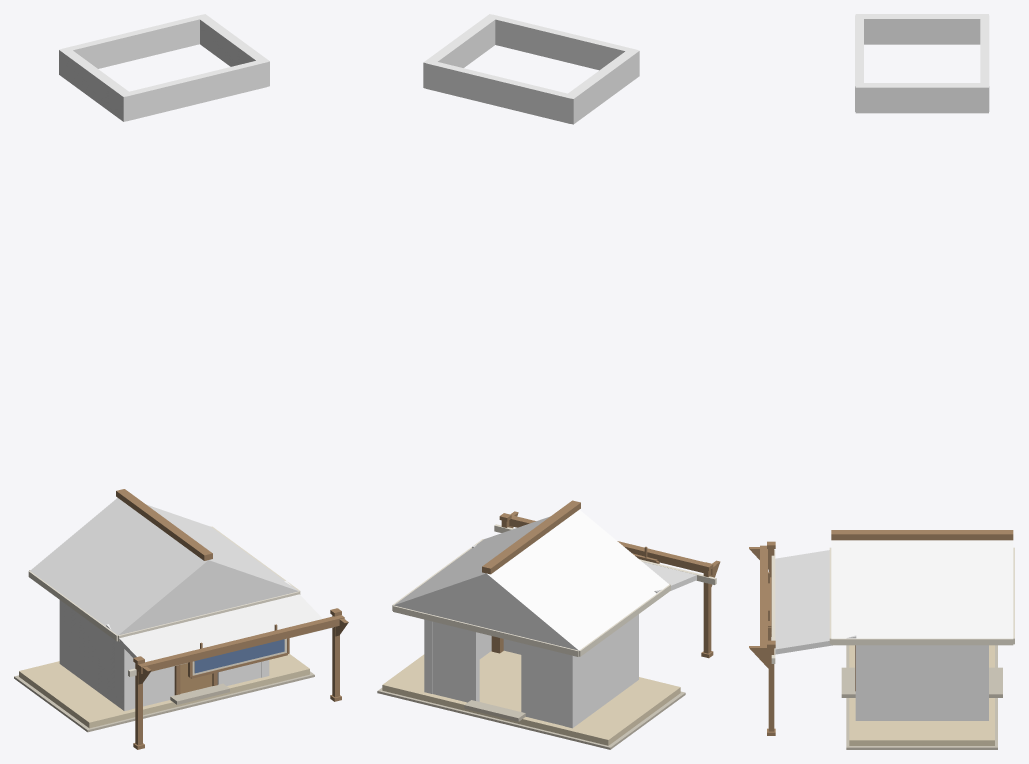
Rendered from station-hut.glb.
3 views of the same model, side by side, from view 1: azimuth 30°, elevation 25°; view 2: azimuth 150°, elevation 25°; view 3: azimuth 270°, elevation 25° (orthographic). The views are drawn at different scales.
Visible parts, largest first — view 1: Roof_Main, Canopy_Roof, Station_Platform, Wall_Left, Wall_Trim_F, Wall_Trim_B, Wall_Trim_L, Canopy_Beam_Front, Wall_Trim_R, Platform_Trim, Roof_Ridge, Sign_Panel (+7 smaller); view 2: Roof_Main, Station_Platform, Wall_Left, Wall_Trim_B, Wall_Trim_F, Wall_Back_R, Wall_Back_L, Wall_Trim_L, Wall_Trim_R, Platform_Trim, Roof_Ridge, Fascia_Back (+6 smaller); view 3: Roof_Main, Wall_Right, Canopy_Roof, Station_Platform, Wall_Trim_R, Wall_Trim_L, Roof_Ridge, Fascia_Right, Platform_Trim, Canopy_Beam_Front, Wall_Trim_B, Wall_Trim_F (+2 smaller).
Part boxes in pixels (x1=…): Roof_Main: x1=30, y1=498, x2=298, y2=635; Canopy_Roof: x1=106, y1=581, x2=322, y2=662; Station_Platform: x1=19, y1=653, x2=309, y2=728; Wall_Left: x1=59, y1=600, x2=132, y2=711; Wall_Trim_F: x1=122, y1=59, x2=267, y2=121; Wall_Trim_B: x1=62, y1=14, x2=206, y2=68; Wall_Trim_L: x1=59, y1=47, x2=129, y2=121; Canopy_Beam_Front: x1=137, y1=615, x2=344, y2=673; Wall_Trim_R: x1=198, y1=14, x2=269, y2=86; Platform_Trim: x1=14, y1=671, x2=314, y2=732; Roof_Ridge: x1=116, y1=489, x2=212, y2=560; Sign_Panel: x1=194, y1=639, x2=284, y2=673; Roof_Main: x1=394, y1=509, x2=668, y2=650; Station_Platform: x1=382, y1=650, x2=680, y2=745; Wall_Left: x1=564, y1=614, x2=638, y2=728; Wall_Trim_B: x1=426, y1=60, x2=574, y2=123; Wall_Trim_F: x1=488, y1=14, x2=636, y2=70; Wall_Back_R: x1=432, y1=621, x2=479, y2=702; Wall_Back_L: x1=521, y1=643, x2=564, y2=725; Wall_Trim_L: x1=564, y1=50, x2=639, y2=124; Wall_Trim_R: x1=423, y1=14, x2=498, y2=88; Platform_Trim: x1=377, y1=688, x2=685, y2=749; Roof_Ridge: x1=482, y1=500, x2=580, y2=574; Fascia_Back: x1=393, y1=605, x2=578, y2=656; Roof_Main: x1=831, y1=540, x2=1013, y2=638; Wall_Right: x1=855, y1=645, x2=988, y2=720; Canopy_Roof: x1=775, y1=550, x2=856, y2=654; Station_Platform: x1=849, y1=645, x2=994, y2=745; Wall_Trim_R: x1=855, y1=83, x2=988, y2=113; Wall_Trim_L: x1=855, y1=14, x2=988, y2=44; Roof_Ridge: x1=831, y1=530, x2=1013, y2=540; Fascia_Right: x1=831, y1=638, x2=1013, y2=645; Platform_Trim: x1=846, y1=645, x2=997, y2=749; Canopy_Beam_Front: x1=760, y1=545, x2=767, y2=655; Wall_Trim_B: x1=980, y1=15, x2=989, y2=111; Wall_Trim_F: x1=855, y1=15, x2=863, y2=111.
Size of the model in its own units: 6.69 by 17.51 by 6.57.
